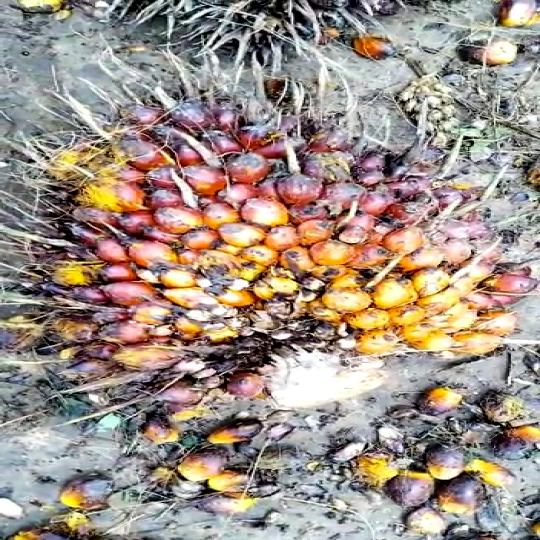masak: (25, 88, 540, 400)
